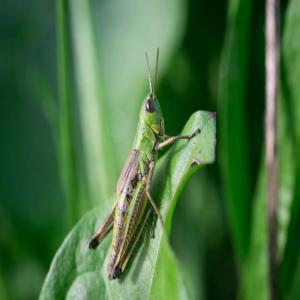locust: (85, 35, 192, 285)
